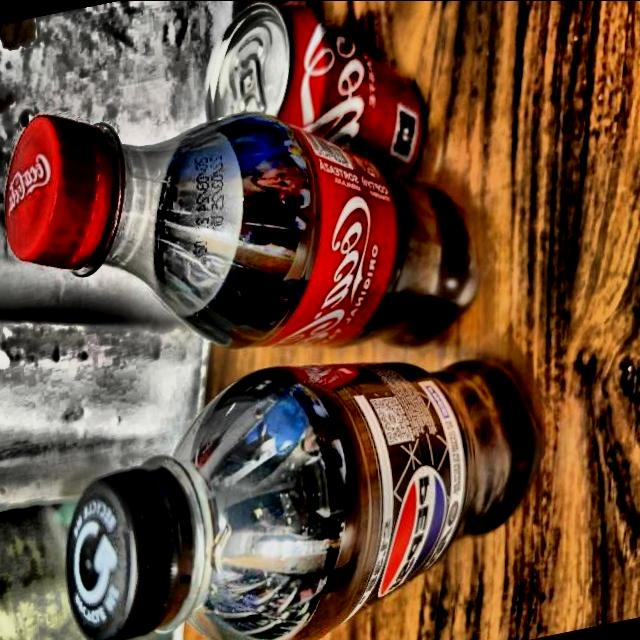coke-bottle: (0, 110, 468, 360)
coke-can: (200, 3, 430, 163)
pepsi-bottle: (68, 353, 532, 640)
